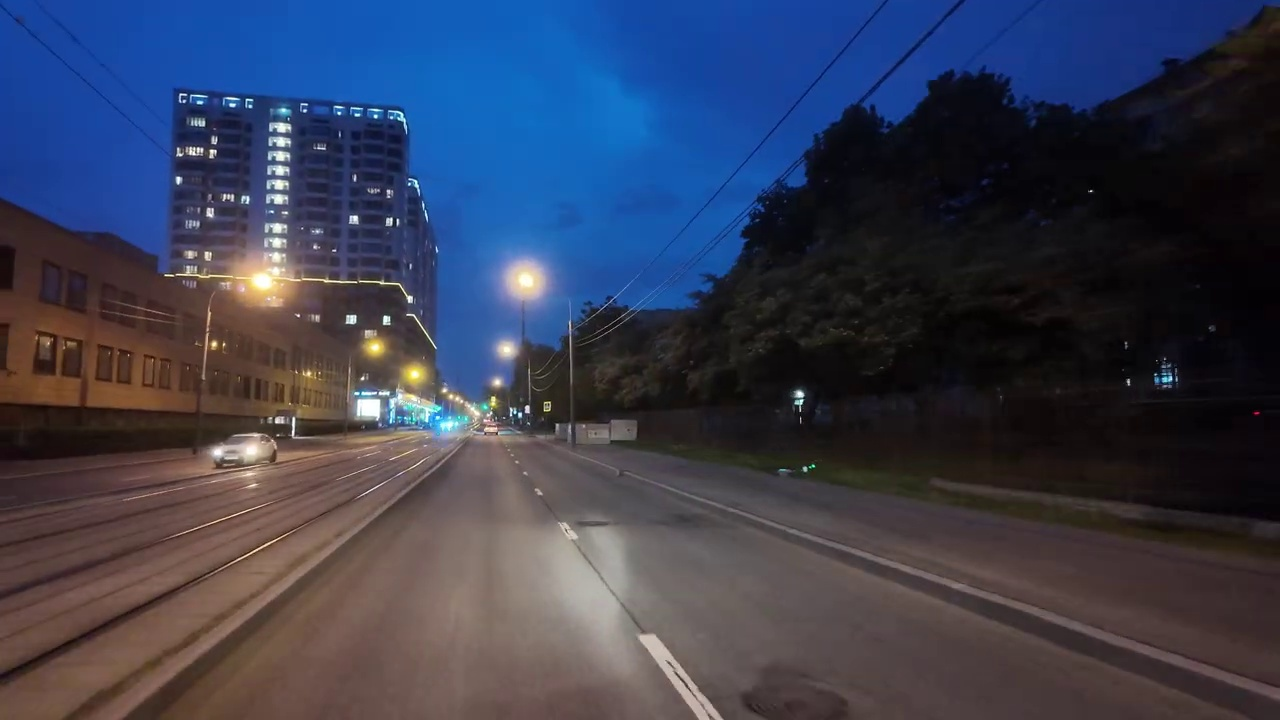acesa: (241, 265, 287, 303), (510, 263, 543, 296), (362, 336, 386, 360), (496, 339, 518, 360)
